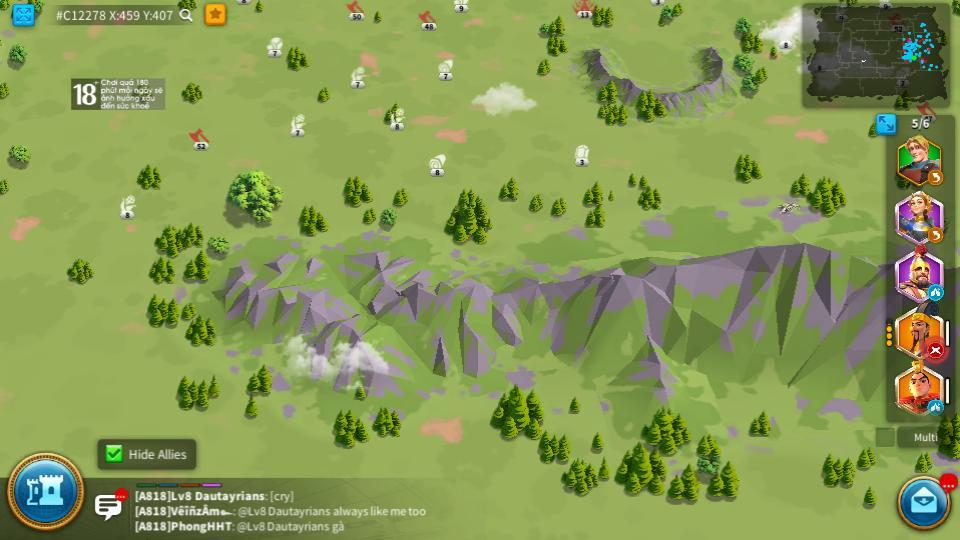gem-z-out: (573, 145, 591, 165)
march_attacking: (929, 345, 943, 358)
march_idle: (927, 285, 944, 299), (929, 401, 943, 413)
march_returning: (928, 172, 942, 183), (928, 230, 942, 241)
